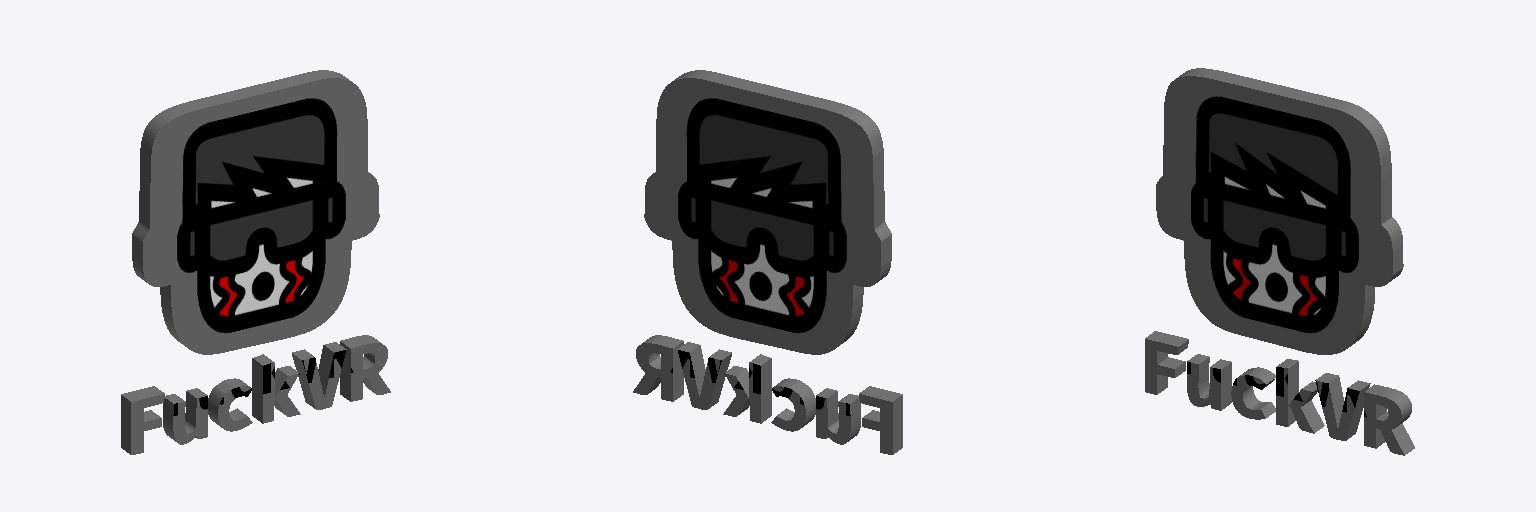
3 views of the same model, side by side, from view 1: azimuth 30°, elevation 25°; view 2: azimuth 150°, elevation 25°; view 3: azimuth 330°, elevation 25° (orthographic).
Parts seen in each view (by area): view 1: Layer 2; view 2: Layer 2; view 3: Layer 2.
Boxes of the visible parts, x1=… form: Layer 2: x1=121, y1=70, x2=390, y2=454; Layer 2: x1=633, y1=70, x2=902, y2=454; Layer 2: x1=1145, y1=68, x2=1414, y2=455.
Bounding box in the file's own units: 728 × 887 × 51.84.
Materials: 5 (2 with a texture image).